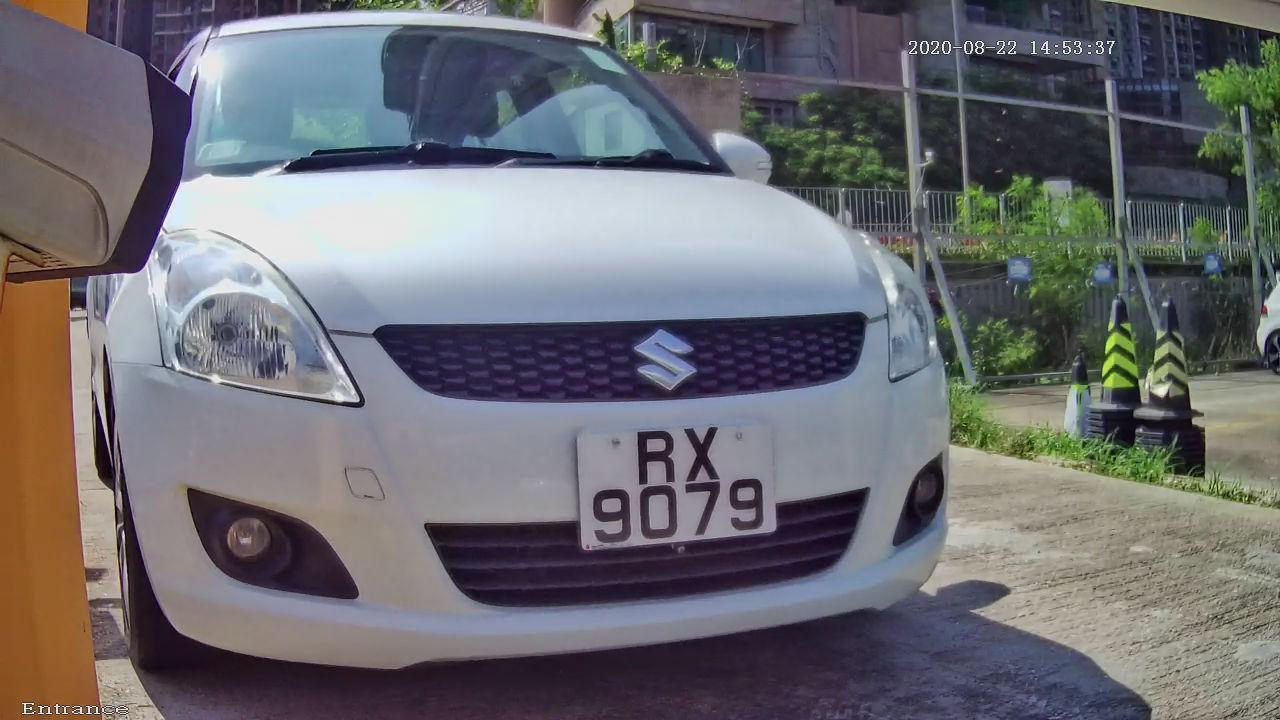Car: (29, 7, 1023, 720)
License Plate: (561, 409, 795, 576)
